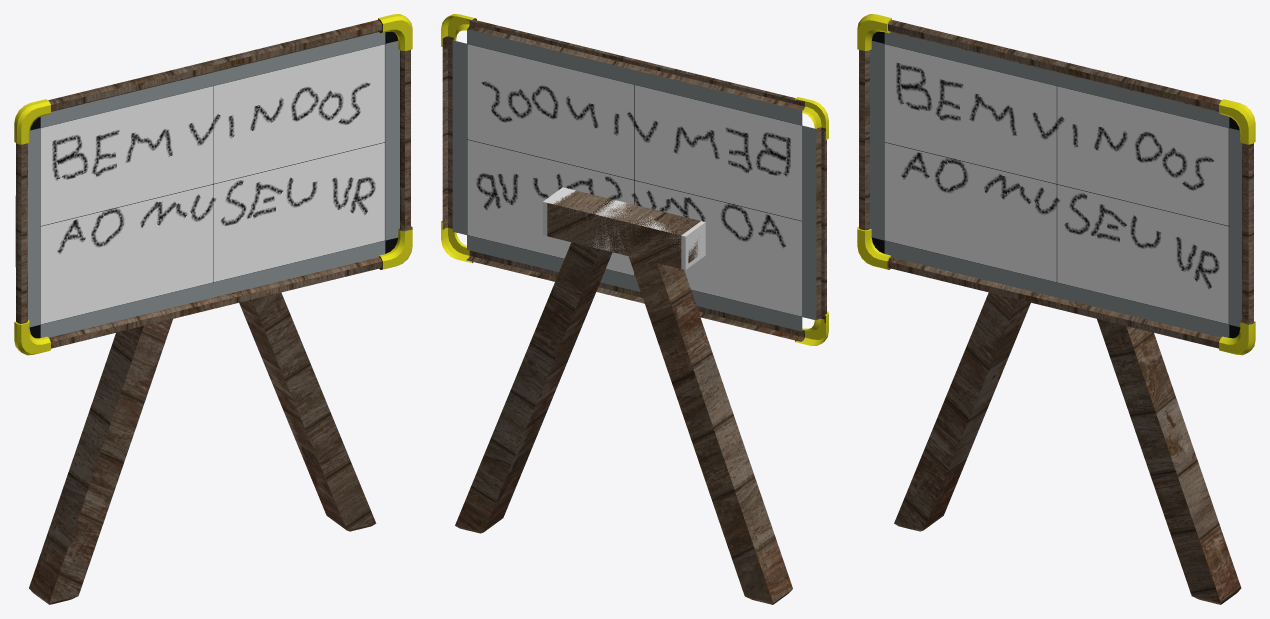
Rendered from lousa.glb.
3 renders of one model, left to right at view 1: azimuth 30°, elevation 25°; view 2: azimuth 150°, elevation 25°; view 3: azimuth 330°, elevation 25°, orthographic. The views are drawn at different scales.
Parts seen in each view (by area): view 1: noticeboard; view 2: noticeboard, Cube; view 3: noticeboard.
Boxes of the visible parts, left/top/right/bottom form: noticeboard: left=14, top=14, right=412, bottom=604; noticeboard: left=441, top=14, right=828, bottom=604; Cube: left=543, top=187, right=705, bottom=269; noticeboard: left=857, top=14, right=1255, bottom=604.
Size of the model in its own units: 1.01 by 1.24 by 0.1093.
Materials: 5 (2 with a texture image).
